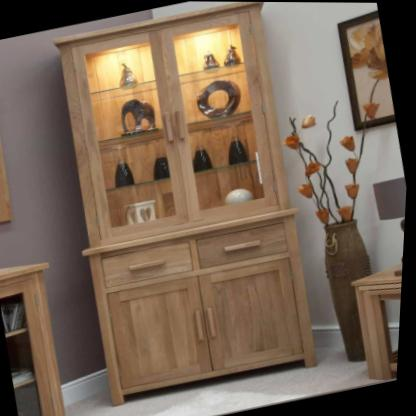Cupboard: (42, 0, 333, 399)
